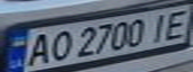0: (124, 16, 151, 47), (112, 18, 133, 51)
2: (75, 24, 100, 58)
7: (93, 20, 115, 54)
A: (21, 32, 54, 68)
E: (160, 7, 193, 40)
I: (145, 10, 175, 43)
O: (45, 28, 75, 63)
